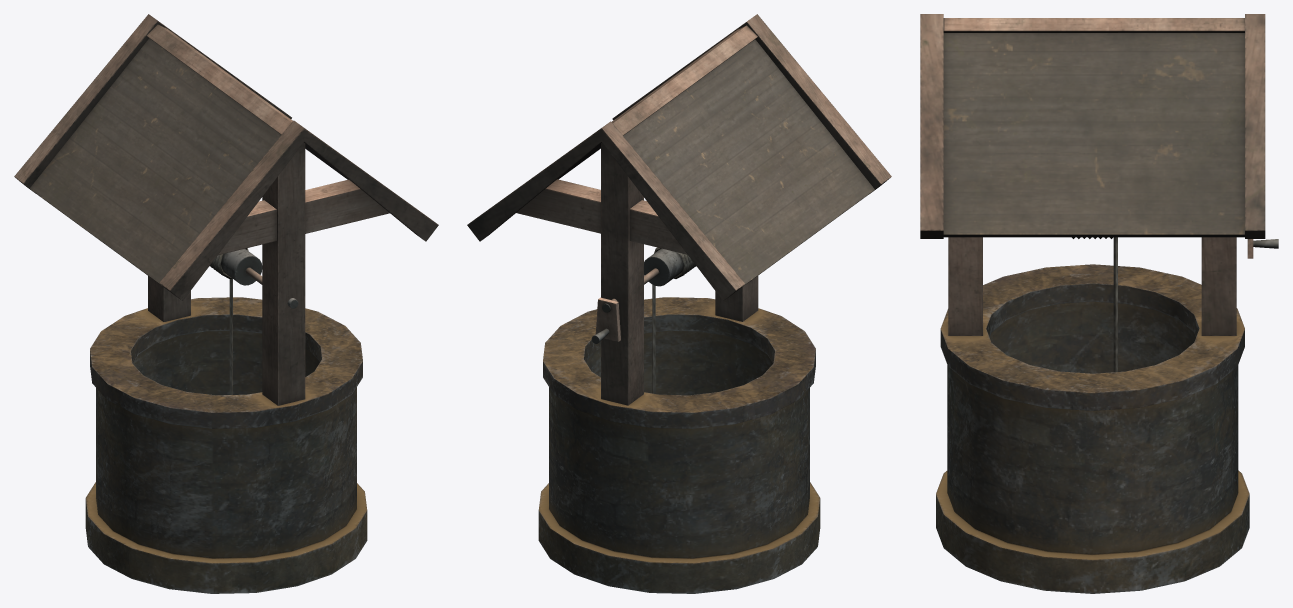
The model's file is well.obj.
3 views of the same model, side by side, from view 1: azimuth 30°, elevation 25°; view 2: azimuth 150°, elevation 25°; view 3: azimuth 270°, elevation 25° (orthographic). The views are drawn at different scales.
Visible parts, largest first — view 1: well; view 2: well; view 3: well.
Part boxes in pixels (x1,y1,x2,y2): well: (14, 14, 438, 593); well: (467, 14, 891, 593); well: (920, 14, 1278, 593).
Bounding box in the file's own units: 2.32 × 3.82 × 2.42.
Materials: 1 (1 with a texture image).
